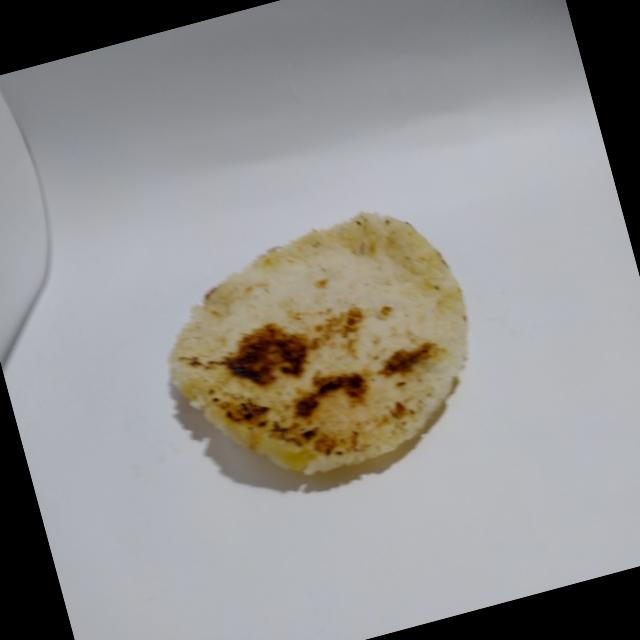Mbeju: (129, 173, 508, 518)
